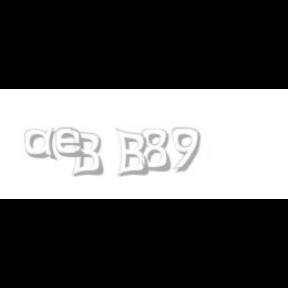8: (142, 128, 170, 172)
9: (172, 128, 200, 172)
B: (69, 128, 103, 178), (115, 128, 149, 178)
a: (24, 128, 62, 160)
e: (56, 128, 88, 158)
